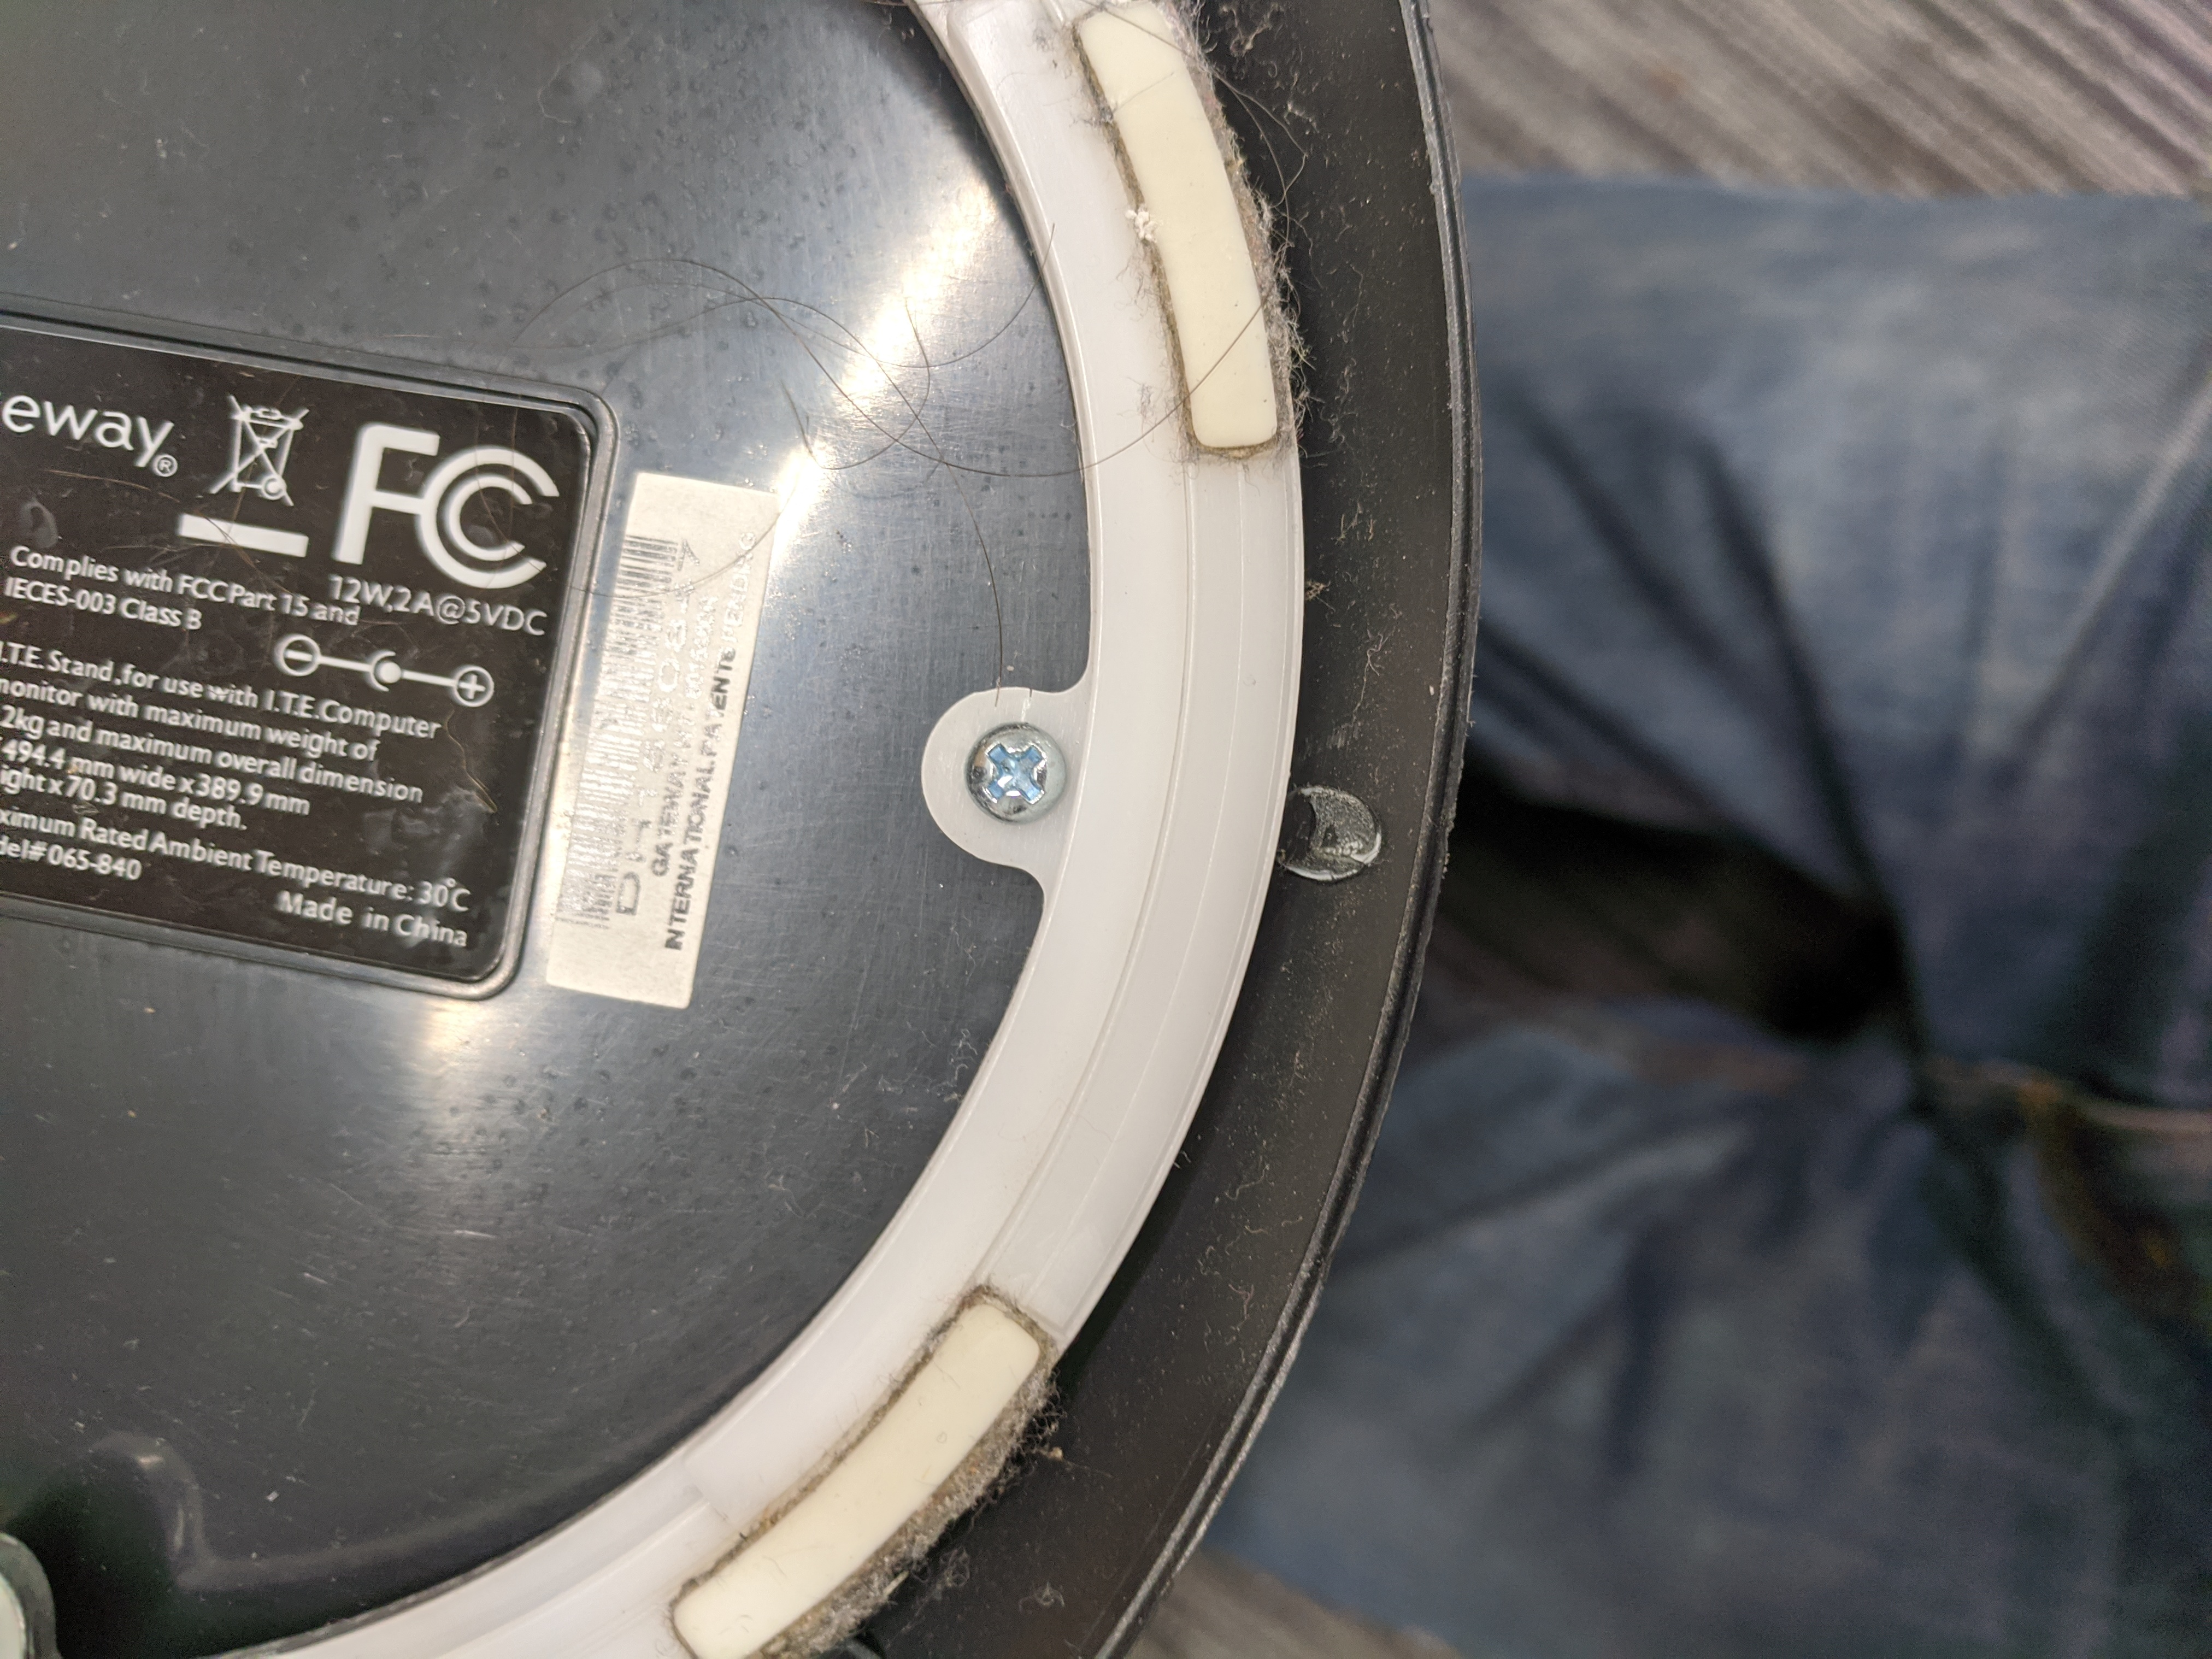cross_recessed_screw: (967, 720, 1064, 831)
